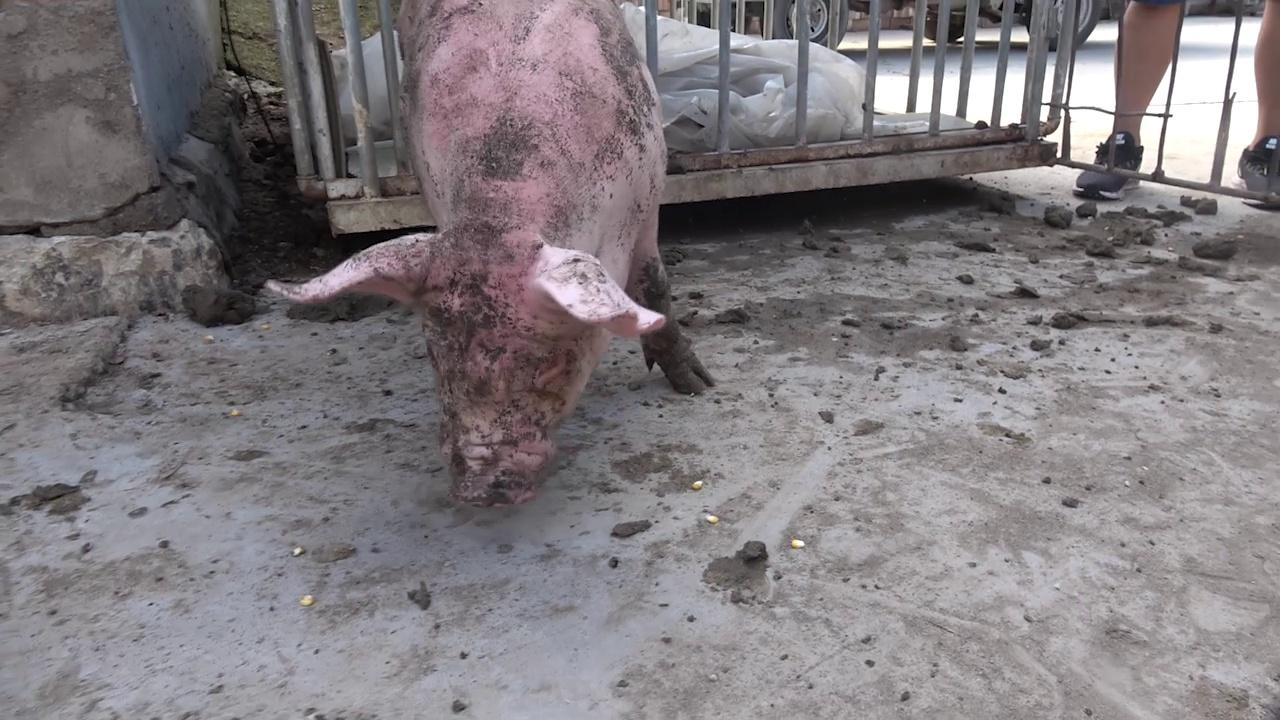Face: (259, 216, 674, 519)
